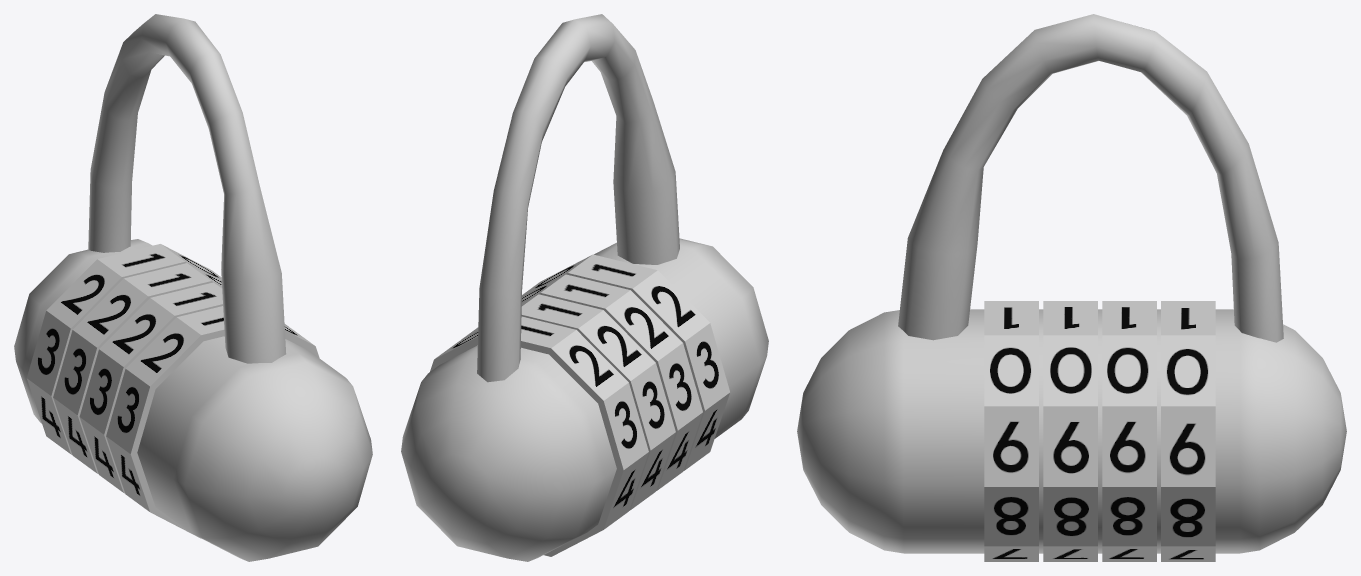
File: Lock.fbx
3 views of the same model, side by side, from view 1: azimuth 30°, elevation 25°; view 2: azimuth 150°, elevation 25°; view 3: azimuth 270°, elevation 25° (orthographic). The views are drawn at different scales.
Visible parts, largest first — view 1: Lock; view 2: Lock; view 3: Lock.
Boxes of the visible parts, bbox=[...] form: Lock: bbox=[14, 14, 372, 561]; Lock: bbox=[401, 14, 768, 561]; Lock: bbox=[797, 14, 1346, 561].
Size of the model in its own units: 4.4 by 9.79 by 9.19.
